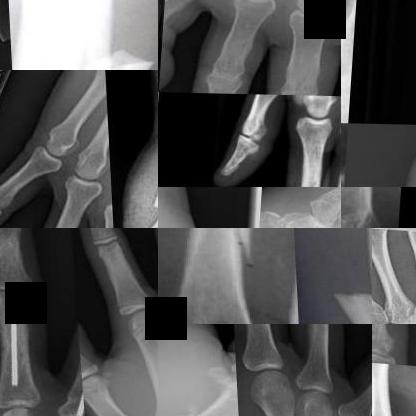fracture: (163, 228, 266, 269), (7, 42, 157, 70), (0, 300, 36, 405), (322, 261, 371, 323), (61, 331, 81, 415), (158, 400, 216, 415), (139, 188, 157, 227), (319, 406, 368, 415), (262, 213, 288, 227)
